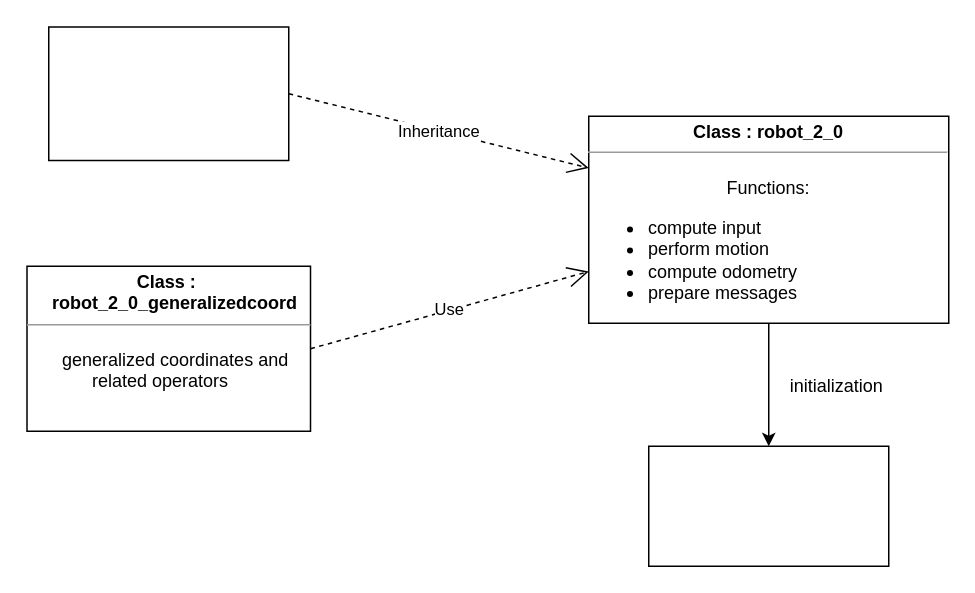
The diagram is 975 pixels wide and 593 high, and some of its shapes have lost their labels. Each missing label, with the centre of its shape:
Class : robot_base publishers, subscribers, operations: (168,93)
robot_2_0.cpp: (768,505)
